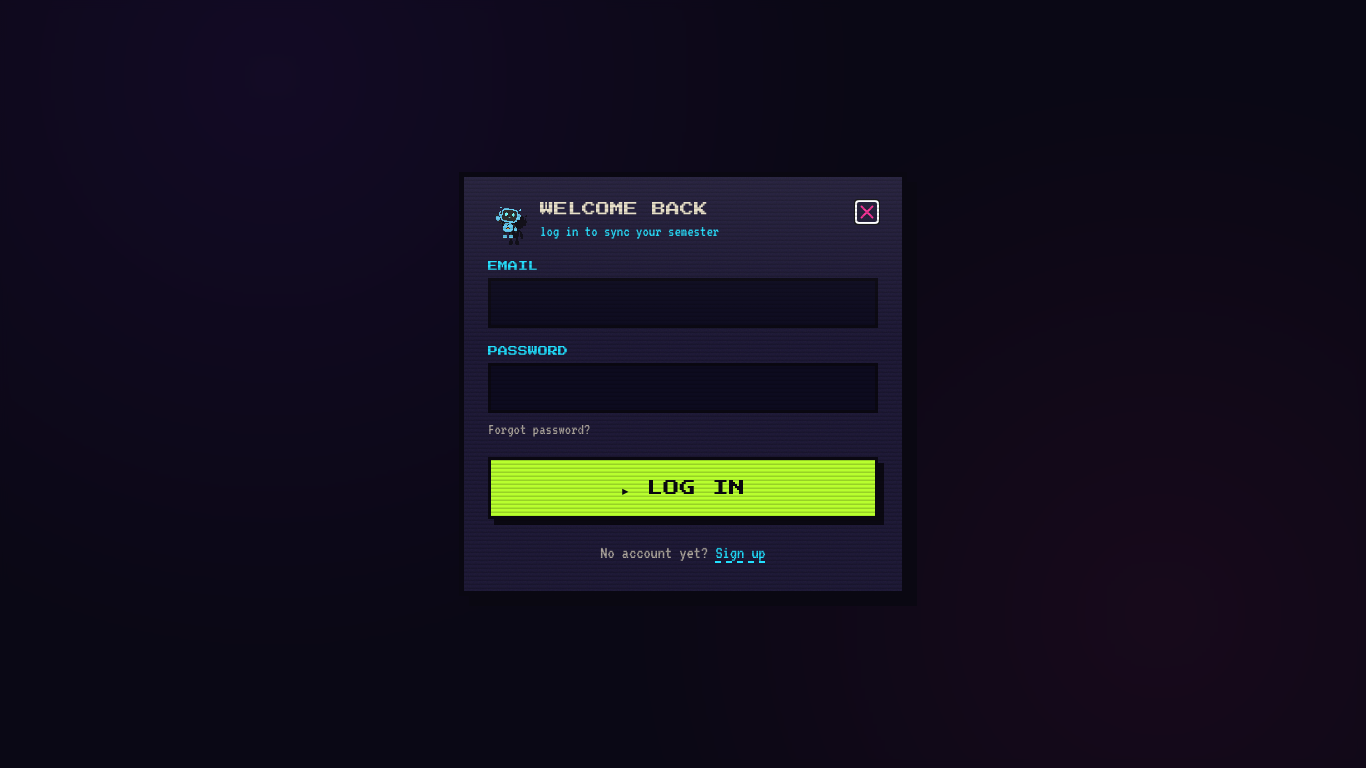
AuthModal › switches to sign-up mode
The width and height of the screenshot is (1366, 768).
Click the button "Sign up" at (741, 553), box [715, 539, 766, 567]
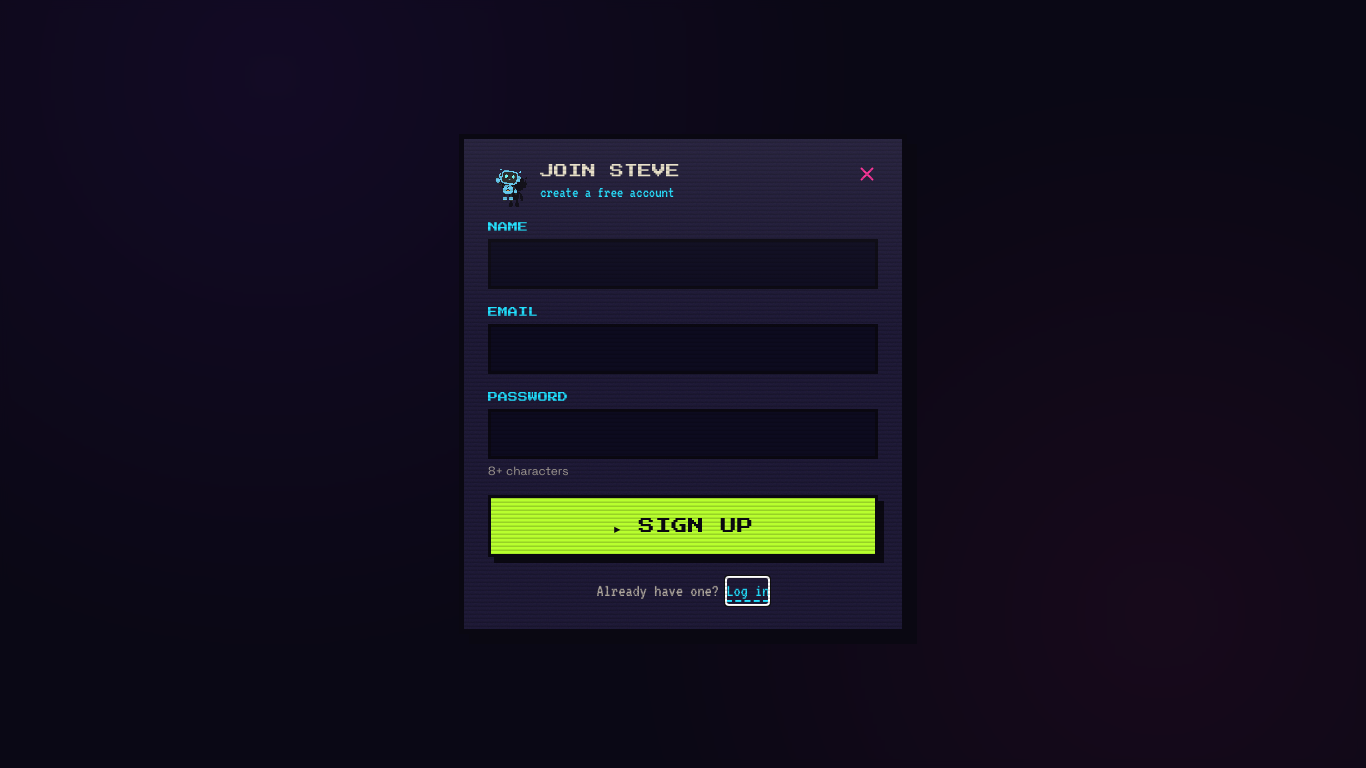
expect the field labelled "NAME" is shown: met, box [488, 239, 878, 289]
expect the button "▸ Sign Up" is shown: met, box [488, 495, 878, 557]
